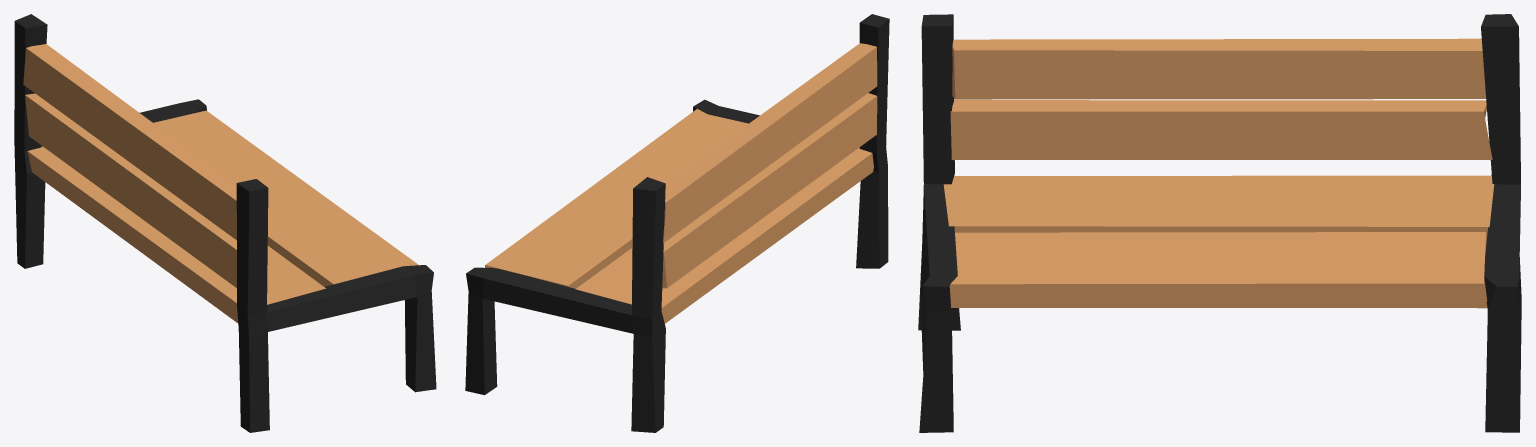
File: Banc.fbx
3 renders of one model, left to right at view 1: azimuth 30°, elevation 25°; view 2: azimuth 150°, elevation 25°; view 3: azimuth 270°, elevation 25°, orthographic. The views are drawn at different scales.
Visible parts, largest first — view 1: Cube.002; view 2: Cube.002; view 3: Cube.002.
Part boxes in pixels (x1,y1,x2,y2): Cube.002: [14, 14, 436, 432]; Cube.002: [465, 14, 889, 432]; Cube.002: [918, 14, 1521, 432].
Size of the model in its own units: 203 by 250 by 449.
